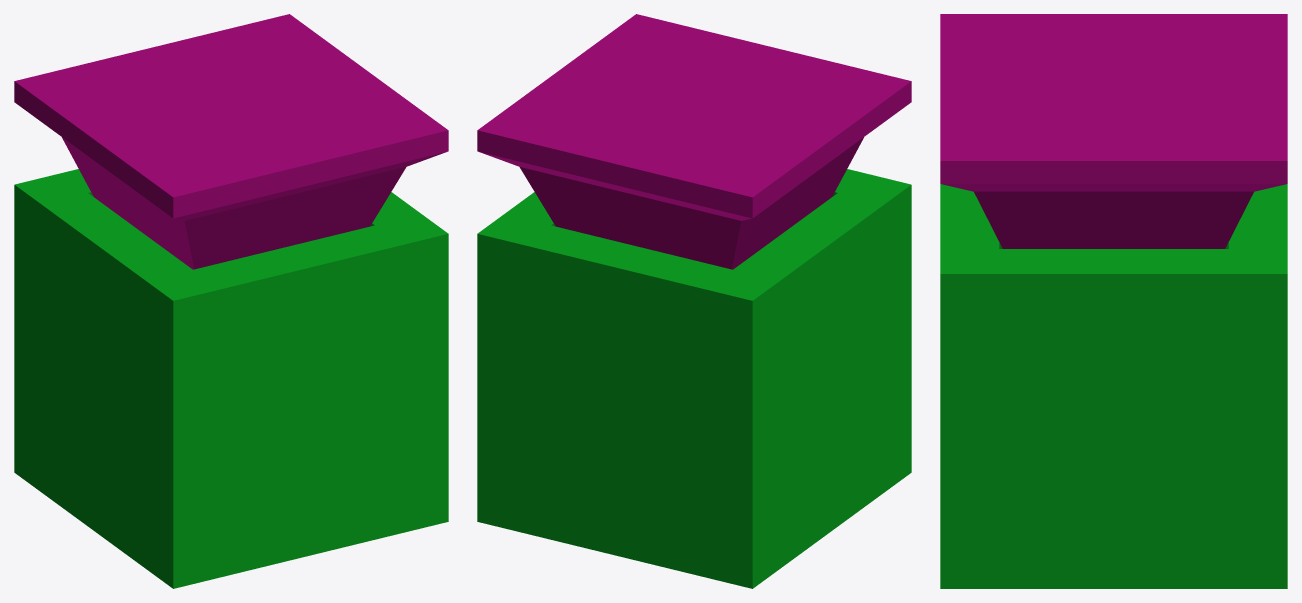
File: AnimatedBox_000181.obj
3 views of the same model, side by side, from view 1: azimuth 30°, elevation 25°; view 2: azimuth 150°, elevation 25°; view 3: azimuth 270°, elevation 25° (orthographic). The views are drawn at different scales.
Visible parts, largest first — view 1: Cube, Cube.001; view 2: Cube, Cube.001; view 3: Cube, Cube.001.
Part boxes in pixels (x1,y1,x2,y2): Cube: [14, 169, 448, 588]; Cube.001: [14, 14, 448, 269]; Cube: [477, 169, 911, 588]; Cube.001: [477, 14, 911, 269]; Cube: [940, 184, 1287, 588]; Cube.001: [940, 14, 1287, 248].
Bounding box in the file's own units: 2 × 2.72 × 2.
